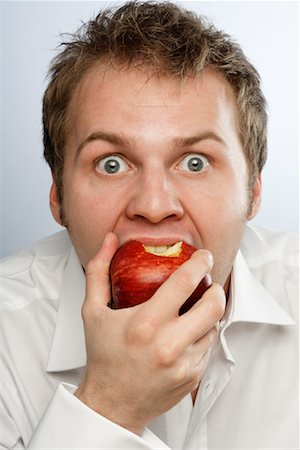eating: (17, 4, 282, 379)
